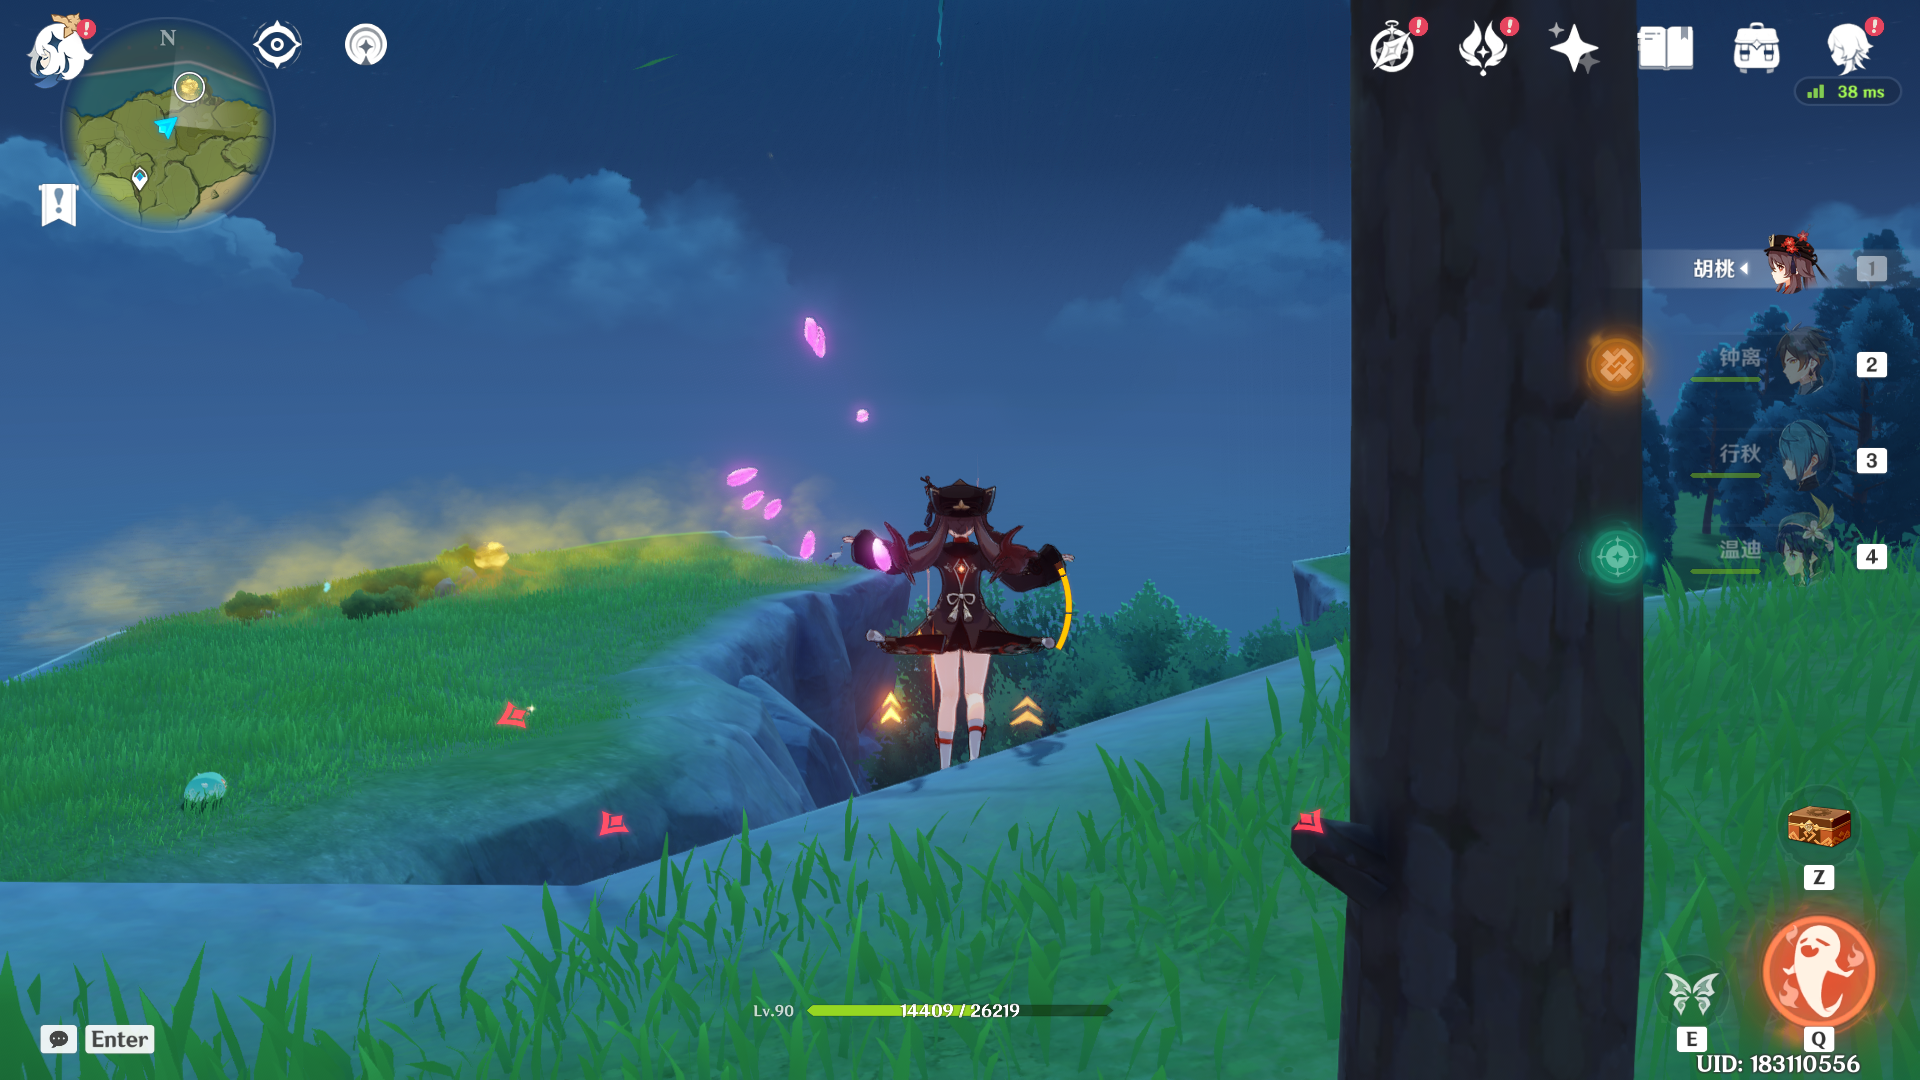character: (816, 440, 1095, 862)
